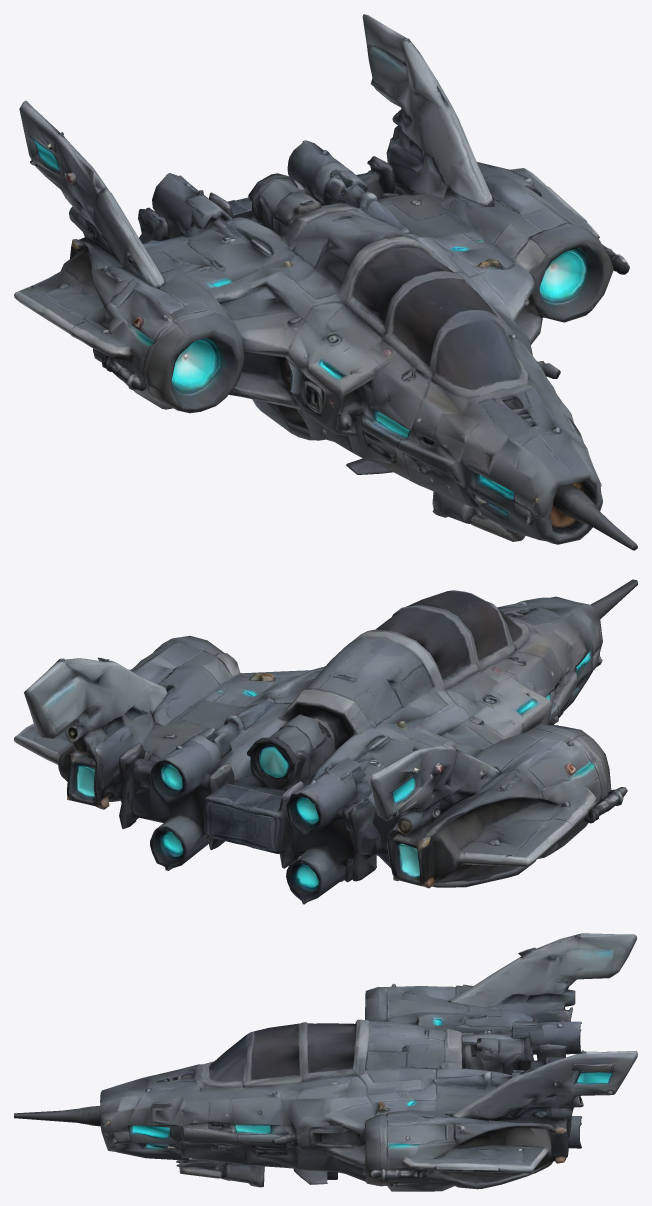
File: neutral_starfighter.glb
3 views of the same model, one above another, from view 1: azimuth 30°, elevation 25°; view 2: azimuth 150°, elevation 25°; view 3: azimuth 270°, elevation 25° (orthographic). The views are drawn at different scales.
Visible parts, largest first — view 1: tripo_node_348c56e6-2f53-4fe0-8d57-57aa0886609e; view 2: tripo_node_348c56e6-2f53-4fe0-8d57-57aa0886609e; view 3: tripo_node_348c56e6-2f53-4fe0-8d57-57aa0886609e.
Part boxes in pixels (left/top/right/bottom): tripo_node_348c56e6-2f53-4fe0-8d57-57aa0886609e: left=14, top=14, right=637, bottom=550; tripo_node_348c56e6-2f53-4fe0-8d57-57aa0886609e: left=14, top=579, right=637, bottom=904; tripo_node_348c56e6-2f53-4fe0-8d57-57aa0886609e: left=14, top=933, right=637, bottom=1191.
Size of the model in its own units: 0.6764 by 0.3302 by 0.9993.
1 material, 1 textured.
